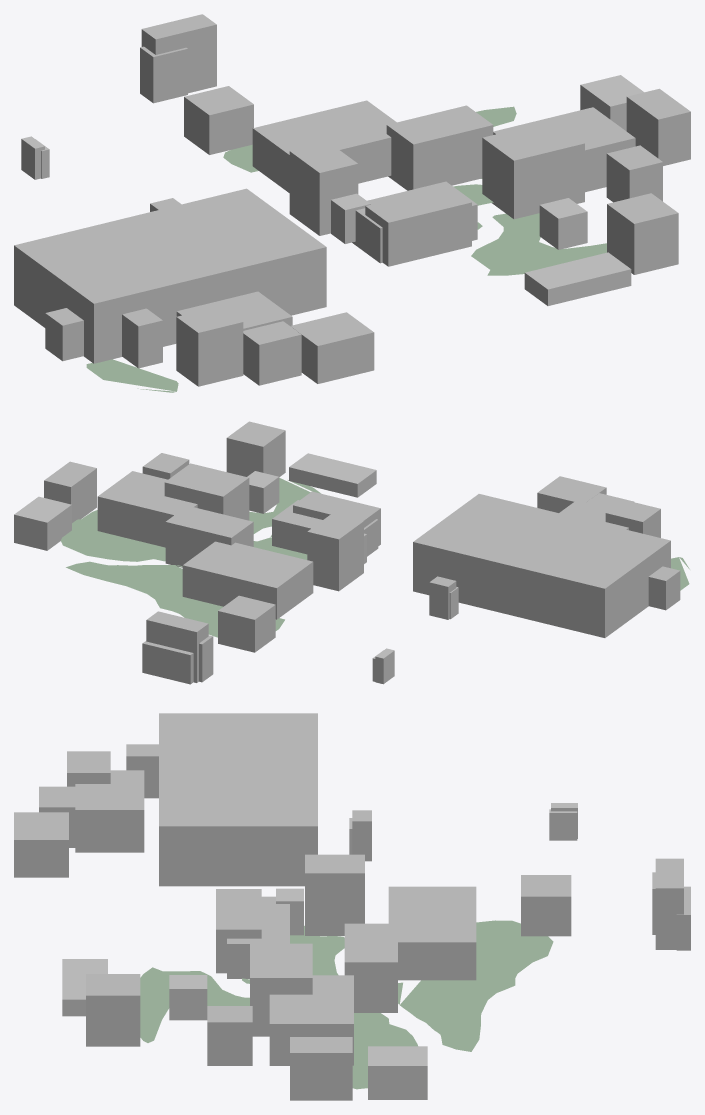
Rendered from 133_119_mid.glb.
3 renders of one model, top to bottom at view 1: azimuth 30°, elevation 25°; view 2: azimuth 150°, elevation 25°; view 3: azimuth 270°, elevation 25°, orthographic. The views are drawn at different scales.
Size of the model in its own units: 519 by 53.08 by 447.
